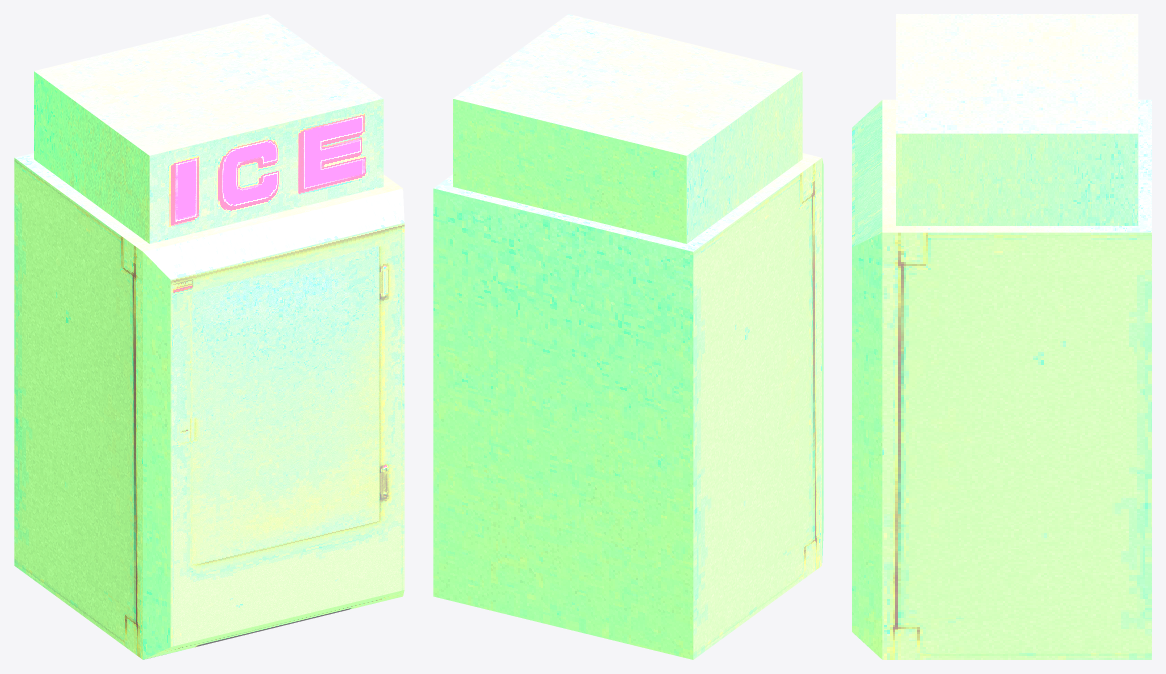
File: urn_icebox.glb
The picture shows the model from 3 angles, left to right: view 1: azimuth 30°, elevation 25°; view 2: azimuth 150°, elevation 25°; view 3: azimuth 270°, elevation 25°; orthographic projection. The views are drawn at different scales.
Parts seen in each view (by area): view 1: urn_icebox; view 2: urn_icebox; view 3: urn_icebox.
Boxes of the visible parts, box(x1,y1,x2,y2) form: urn_icebox: box(14, 14, 404, 659); urn_icebox: box(433, 14, 823, 659); urn_icebox: box(852, 14, 1151, 659).
Bounding box in the file's own units: 1.4 × 2.55 × 1.34.
